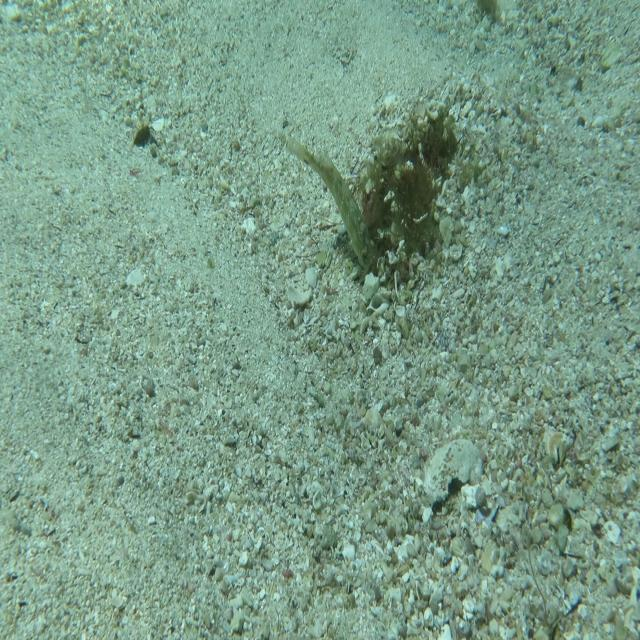NIP_IN: (282, 135, 385, 278)
core_nest: (424, 124, 459, 159)
nest: (357, 101, 473, 287)
vegetation: (474, 0, 499, 27), (132, 121, 154, 148)
